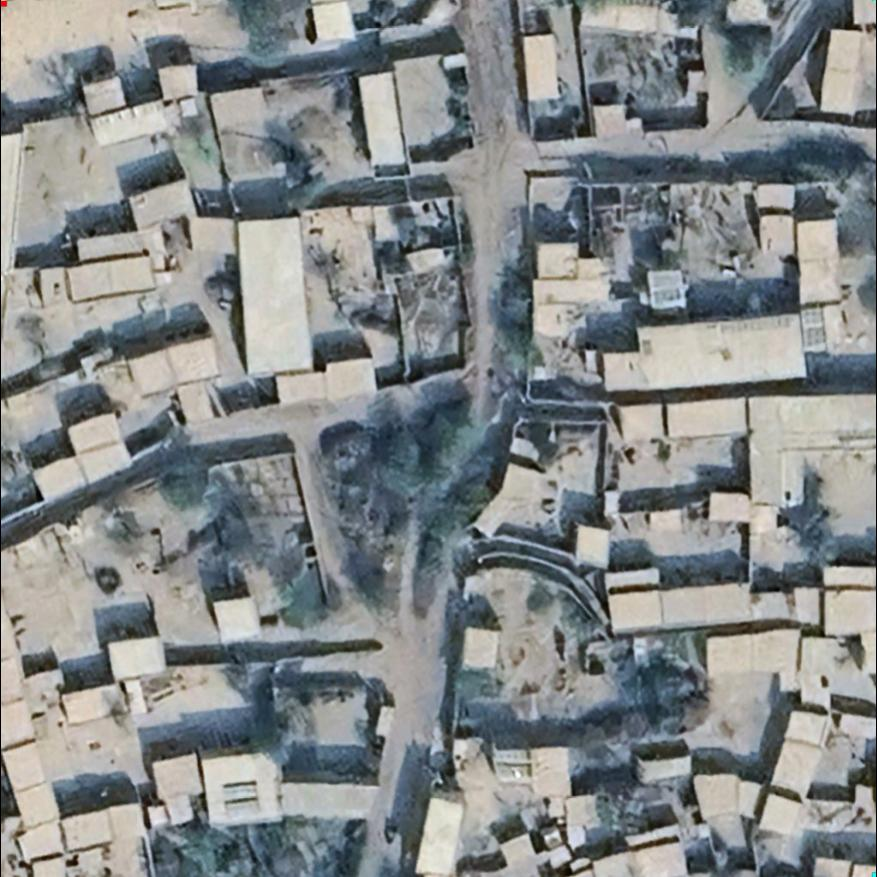Solarpanel: (794, 303, 833, 359), (641, 268, 687, 312), (220, 778, 266, 822)
